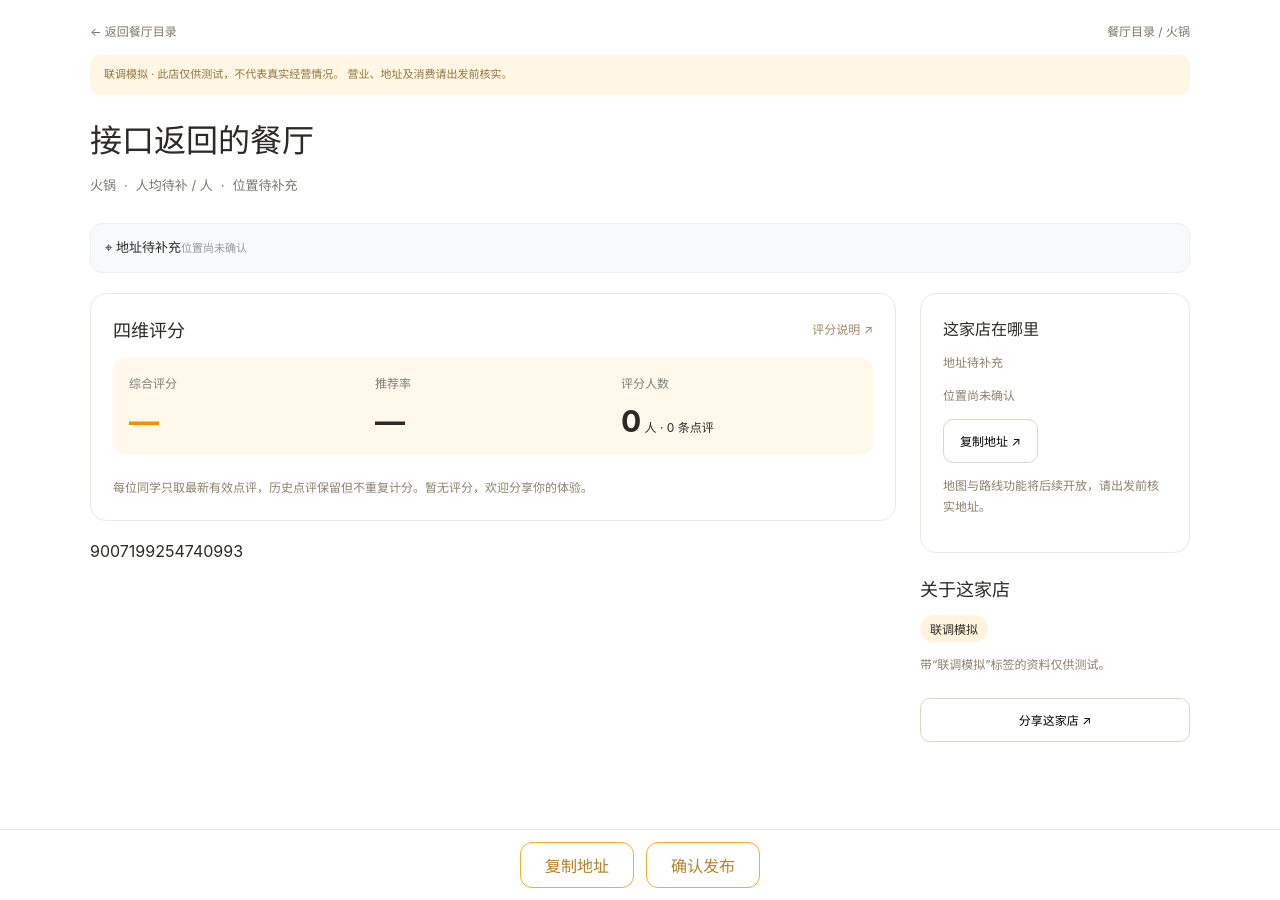
Test: restaurant detail API integration › refreshes statistics after acknowledgement without unmounting reviews and retries reading separately
The width and height of the screenshot is (1280, 900).
Click the button with class "test-publish" at {"x": 703, "y": 865}, box [646,842,760,888]
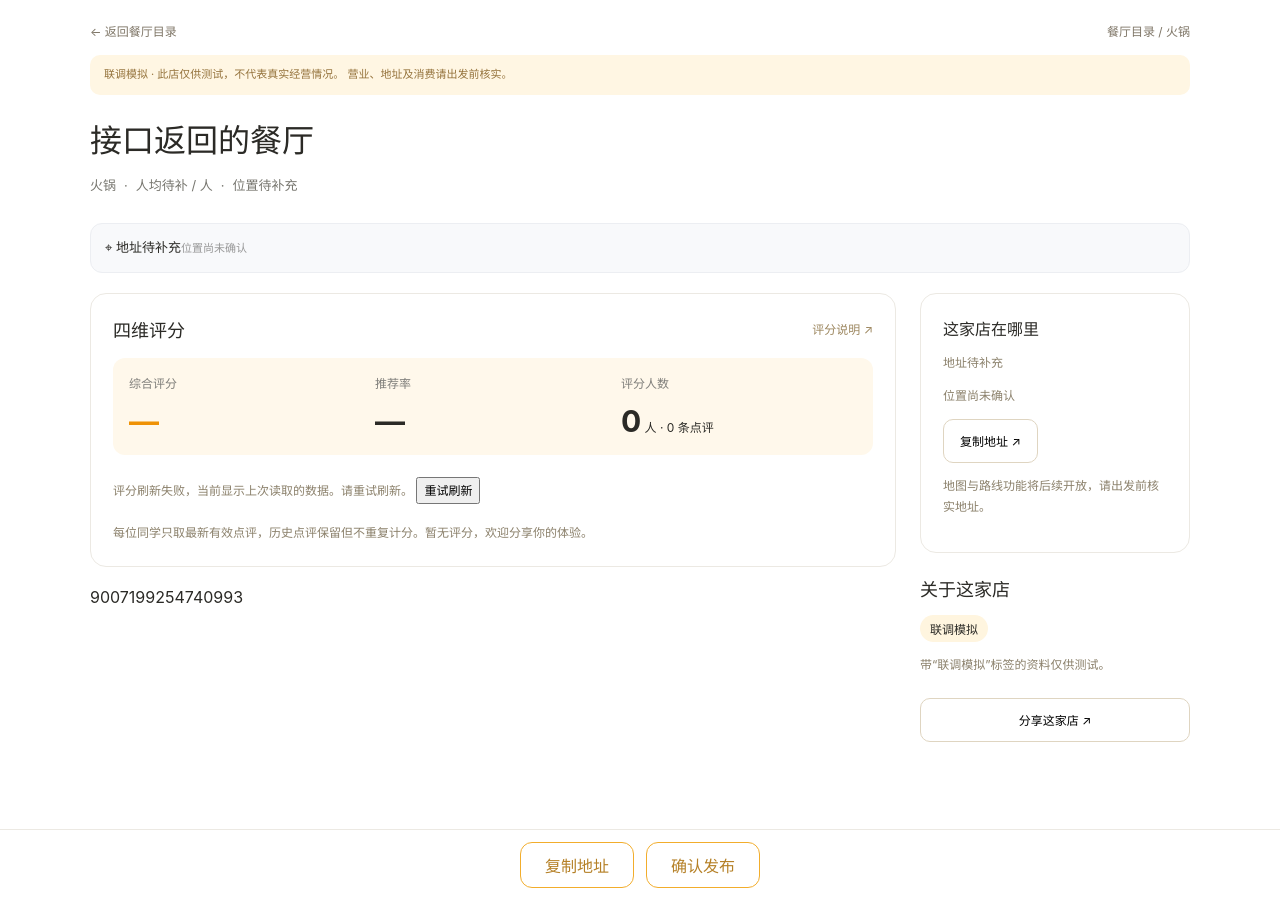
Check: the message "评分刷新失败，当前显示上次读取的数据。请重试刷新。 重试刷新" is shown, box [113,477,480,504]
Click the button "重试刷新" at {"x": 448, "y": 490}, box [416,477,480,504]
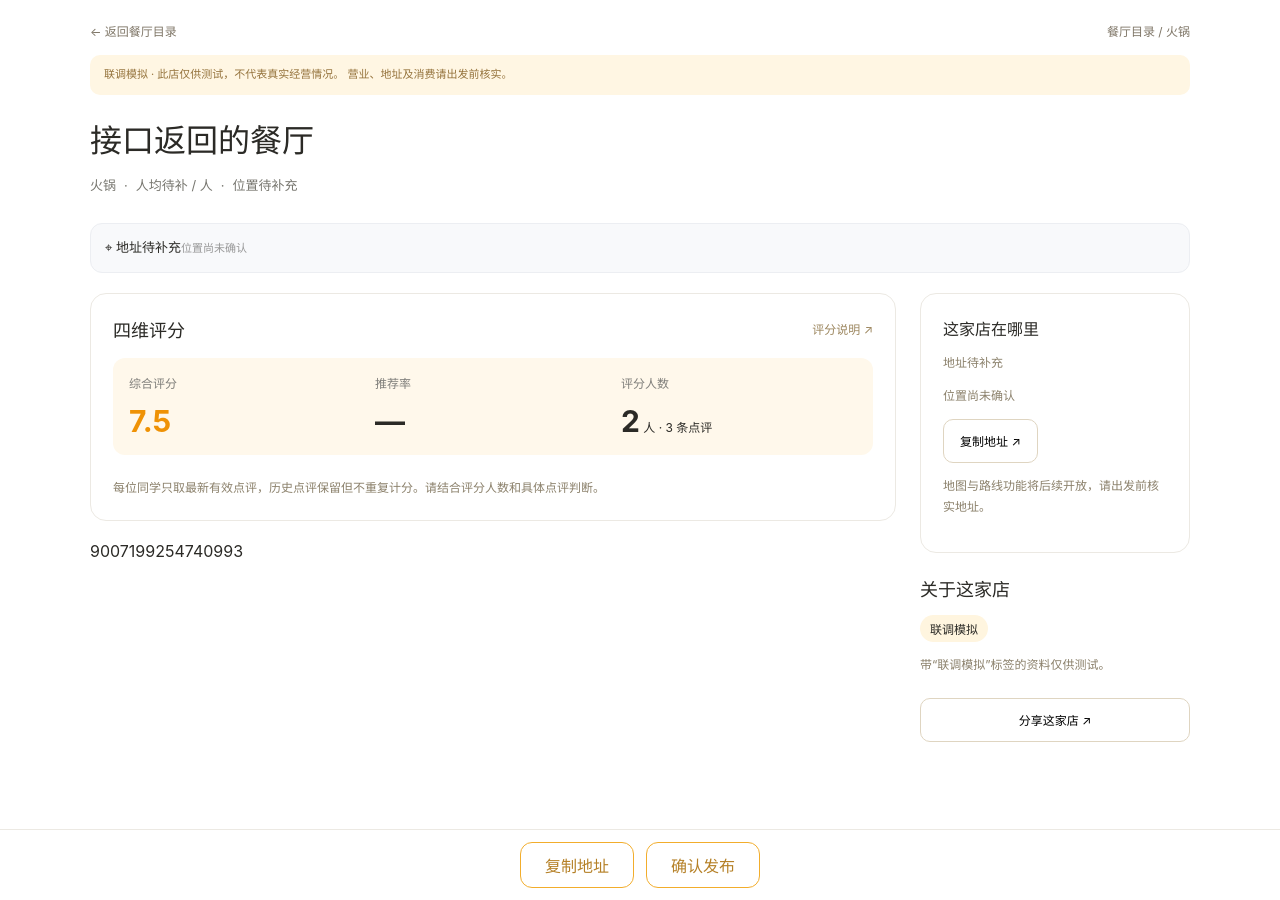
Check: the element showing "综合评分 7.5 推荐率 — 评分人数 2 人 · 3 条点评" is shown, box [113,358,873,455]
Check: the message "评分刷新失败，当前显示上次读取的数据。请重试刷新。 重试刷新" is gone
